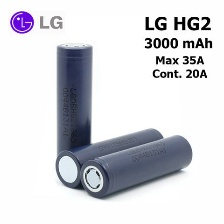battery: (76, 132, 197, 201), (52, 124, 165, 192), (53, 39, 94, 181)
